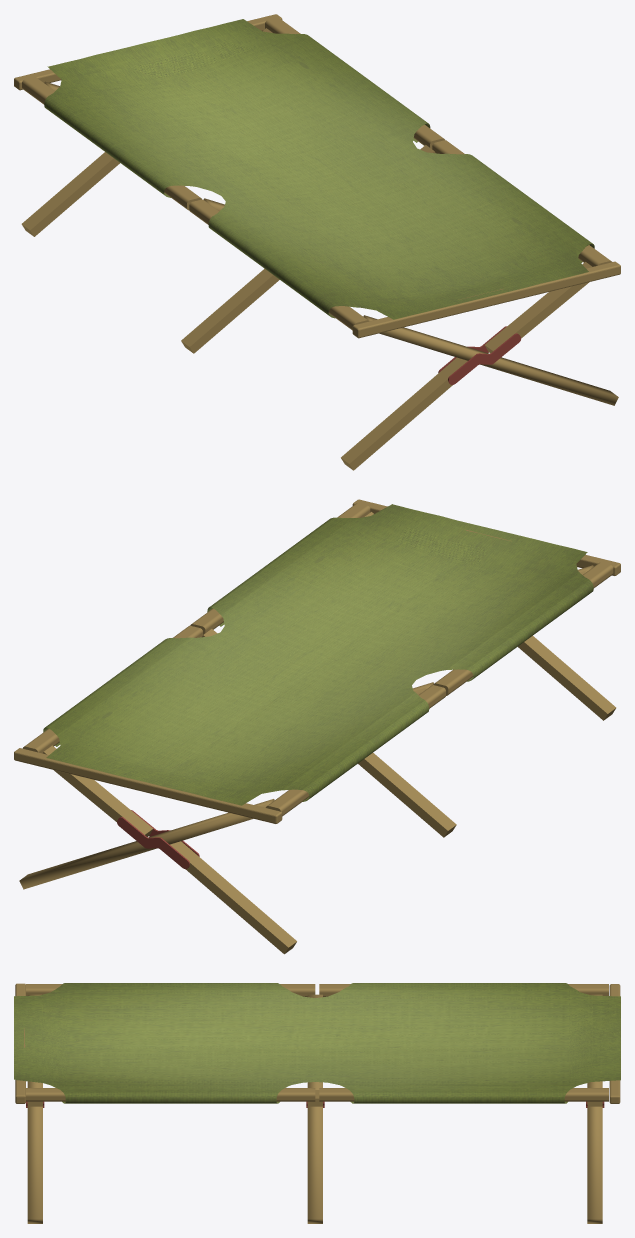
File: cot_01.FBX
The picture shows the model from 3 angles, top to bottom: view 1: azimuth 30°, elevation 25°; view 2: azimuth 150°, elevation 25°; view 3: azimuth 270°, elevation 25°; orthographic projection. The views are drawn at different scales.
Parts seen in each view (by area): view 1: cot; view 2: cot; view 3: cot.
Part boxes in pixels (x1,y1,x2,y2): cot: [14, 14, 620, 470]; cot: [14, 499, 620, 954]; cot: [14, 983, 620, 1223].
Bounding box in the file's own units: 508 × 269 × 1130.
3 materials, 2 textured.
